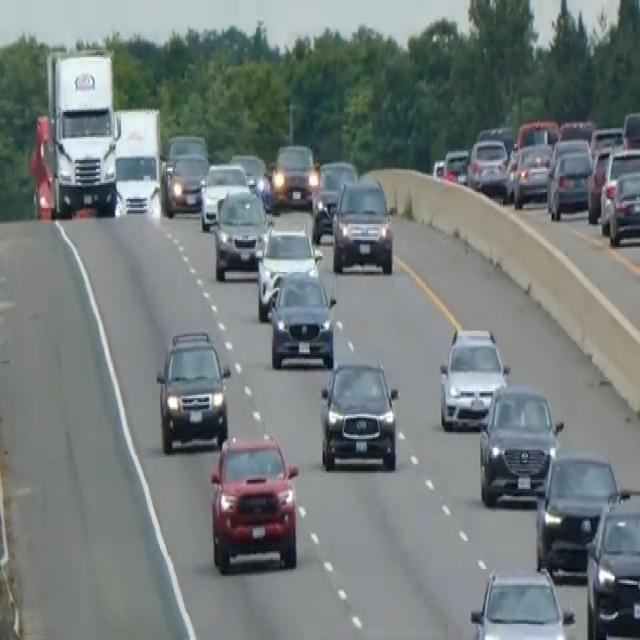car: (209, 432, 299, 572), (478, 382, 563, 505), (535, 452, 618, 576), (155, 327, 231, 453), (318, 357, 399, 471), (584, 487, 639, 638), (468, 564, 575, 638), (438, 324, 509, 430), (269, 266, 336, 370), (255, 222, 322, 320), (331, 176, 394, 274), (210, 183, 270, 279), (311, 158, 358, 242), (199, 160, 248, 231), (546, 147, 592, 220), (271, 140, 318, 208), (163, 149, 208, 215), (511, 140, 552, 208), (465, 135, 509, 197), (607, 166, 639, 246), (229, 151, 271, 210), (586, 144, 612, 222), (515, 117, 559, 151), (165, 132, 208, 162), (442, 146, 468, 183), (621, 109, 639, 150)
lorry: (30, 46, 121, 219)
